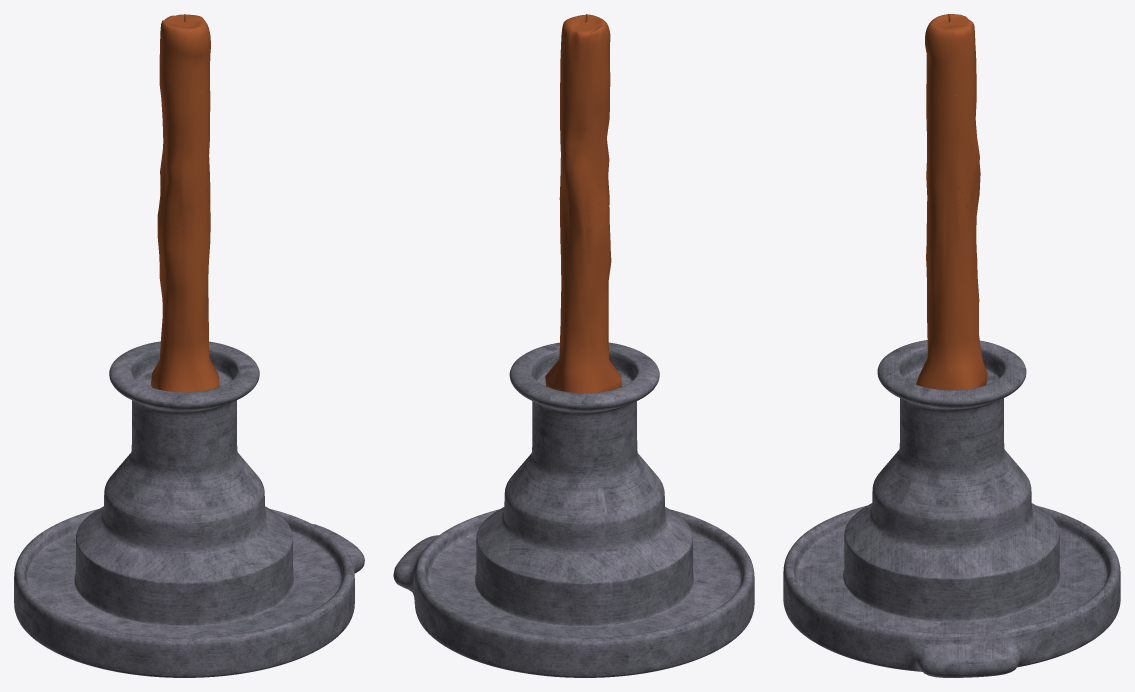
File: candle.fbx
The picture shows the model from 3 angles, left to right: view 1: azimuth 30°, elevation 25°; view 2: azimuth 150°, elevation 25°; view 3: azimuth 270°, elevation 25°; orthographic projection.
Parts seen in each view (by area): view 1: Cylinder.004; view 2: Cylinder.004; view 3: Cylinder.004.
Boxes of the visible parts, <box> form: Cylinder.004: <box>14,14,364,677</box>; Cylinder.004: <box>393,14,754,677</box>; Cylinder.004: <box>783,14,1120,677</box>.
Bounding box in the file's own units: 121 × 216 × 112.
2 materials, 2 textured.
